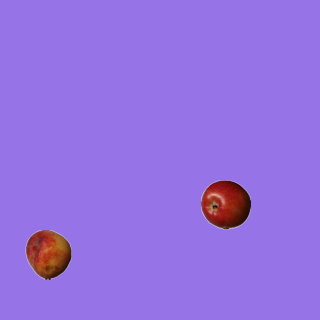Apple Braeburn: (200, 179, 250, 229)
Peach: (23, 229, 73, 279)
